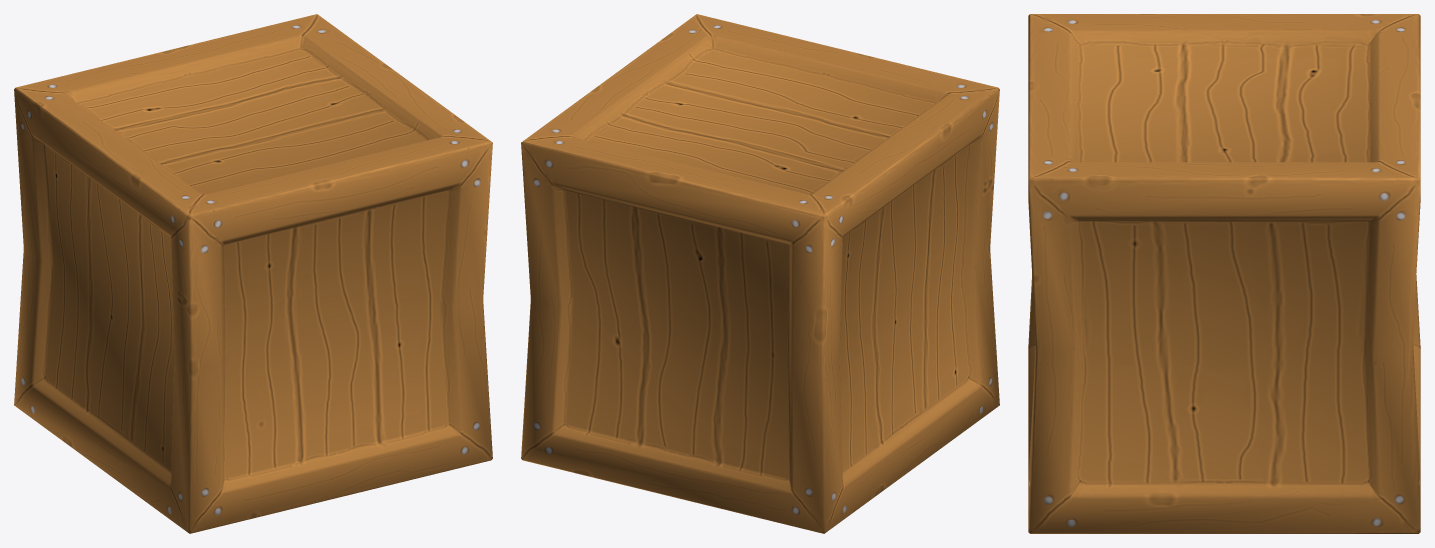
Rendered from Crate.fbx.
The picture shows the model from 3 angles, left to right: view 1: azimuth 30°, elevation 25°; view 2: azimuth 150°, elevation 25°; view 3: azimuth 270°, elevation 25°; orthographic projection. The views are drawn at different scales.
Parts seen in each view (by area): view 1: Crate_LOD0; view 2: Crate_LOD0; view 3: Crate_LOD0.
Boxes of the visible parts, x1,y1,x2,y2 form: Crate_LOD0: (14,14,492,533); Crate_LOD0: (521,14,999,533); Crate_LOD0: (1028,14,1420,533).
Size of what is drawn, in the model's own units: 200 by 200 by 200.
Materials: 1 (1 with a texture image).
